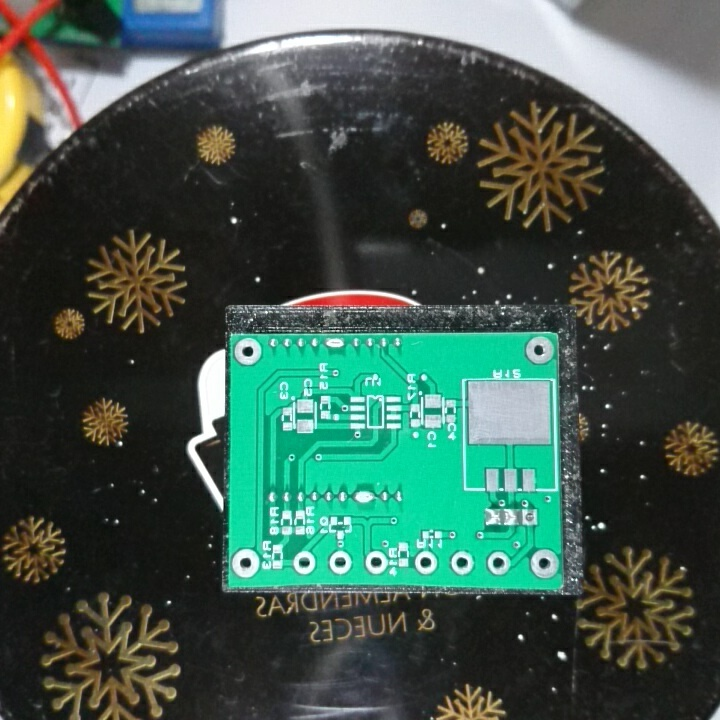F: (230, 543, 262, 582), (528, 546, 560, 582), (232, 335, 264, 369), (523, 335, 554, 368), (410, 549, 443, 578), (326, 546, 355, 578), (484, 549, 514, 579), (290, 548, 319, 578), (448, 548, 476, 578), (364, 546, 388, 580), (521, 506, 541, 533)
P: (352, 486, 376, 508), (323, 333, 345, 355)
